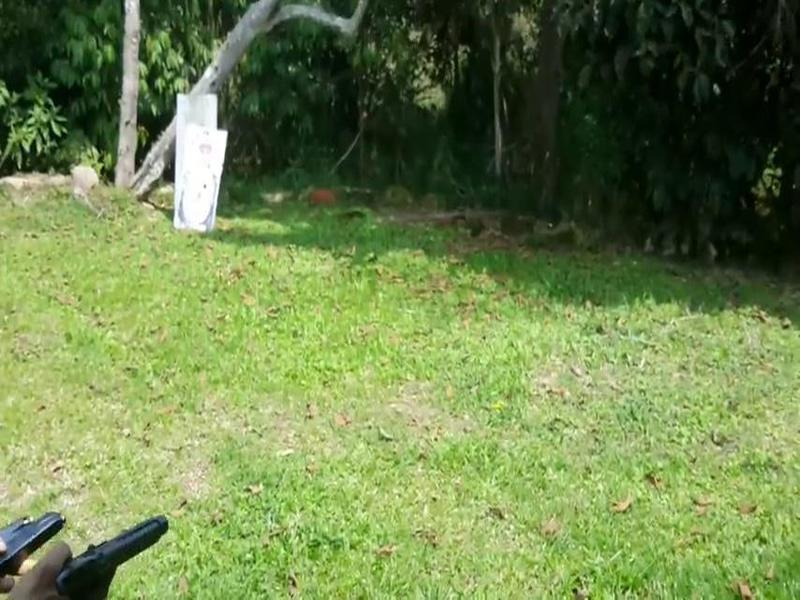Pistola: (54, 514, 173, 596)
